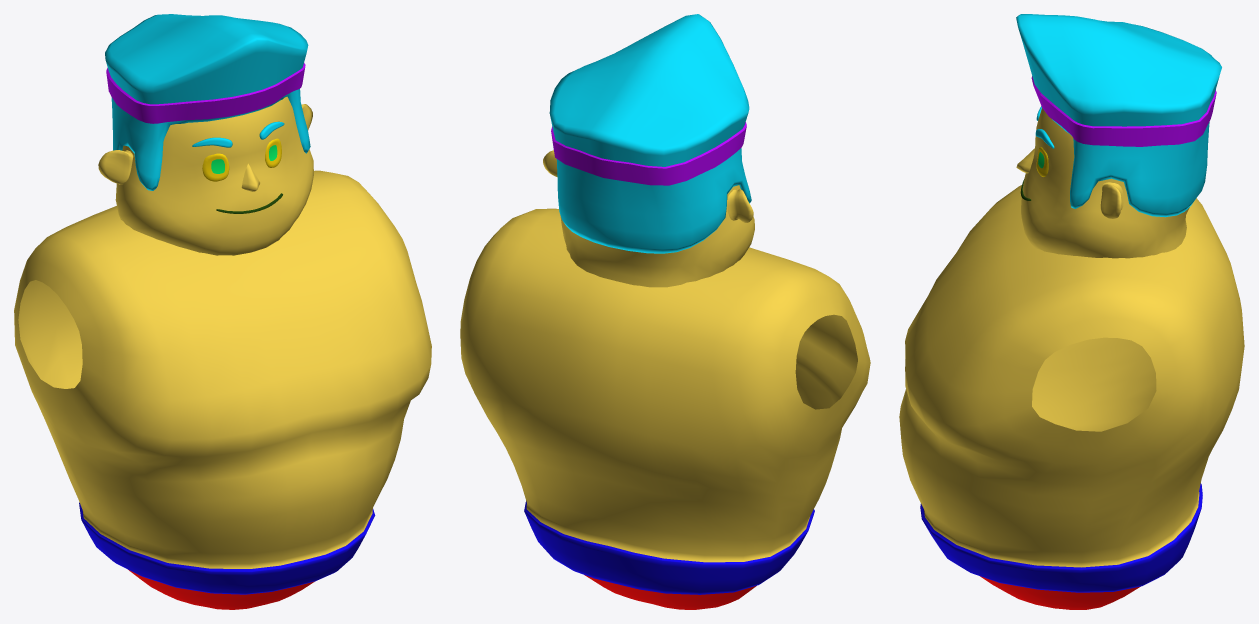
File: Char2.FBX
The picture shows the model from 3 angles, left to right: view 1: azimuth 30°, elevation 25°; view 2: azimuth 150°, elevation 25°; view 3: azimuth 270°, elevation 25°; orthographic projection. The views are drawn at different scales.
Parts seen in each view (by area): view 1: Character; view 2: Character; view 3: Character.
Boxes of the visible parts, <box> form: Character: <box>14,14,431,609</box>; Character: <box>460,14,870,609</box>; Character: <box>899,14,1244,609</box>.
Size of the model in its own units: 23.14 by 36.5 by 19.73.
